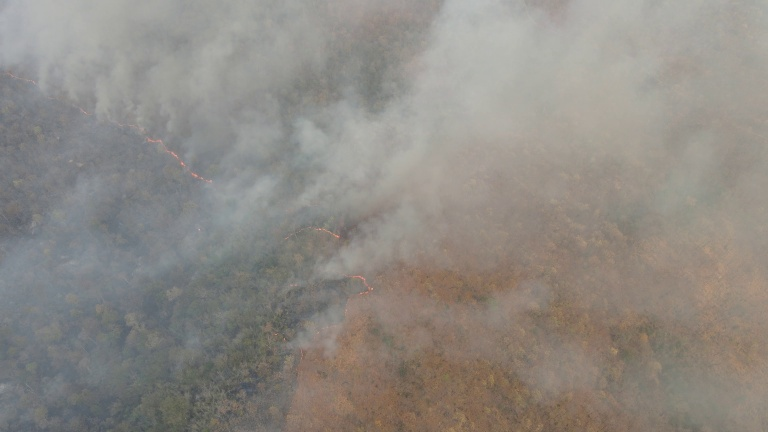fire: (1, 70, 145, 130), (138, 136, 224, 198), (280, 314, 336, 405), (337, 269, 373, 325), (269, 219, 338, 248)
smoke: (370, 2, 755, 243), (13, 1, 406, 197)
